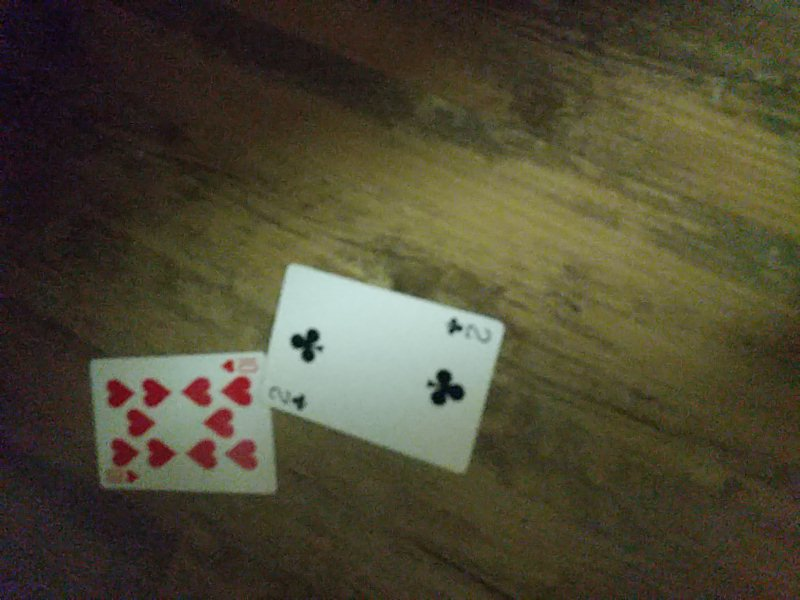Clubs: (259, 264, 504, 479)
Hearts: (91, 351, 277, 496)
